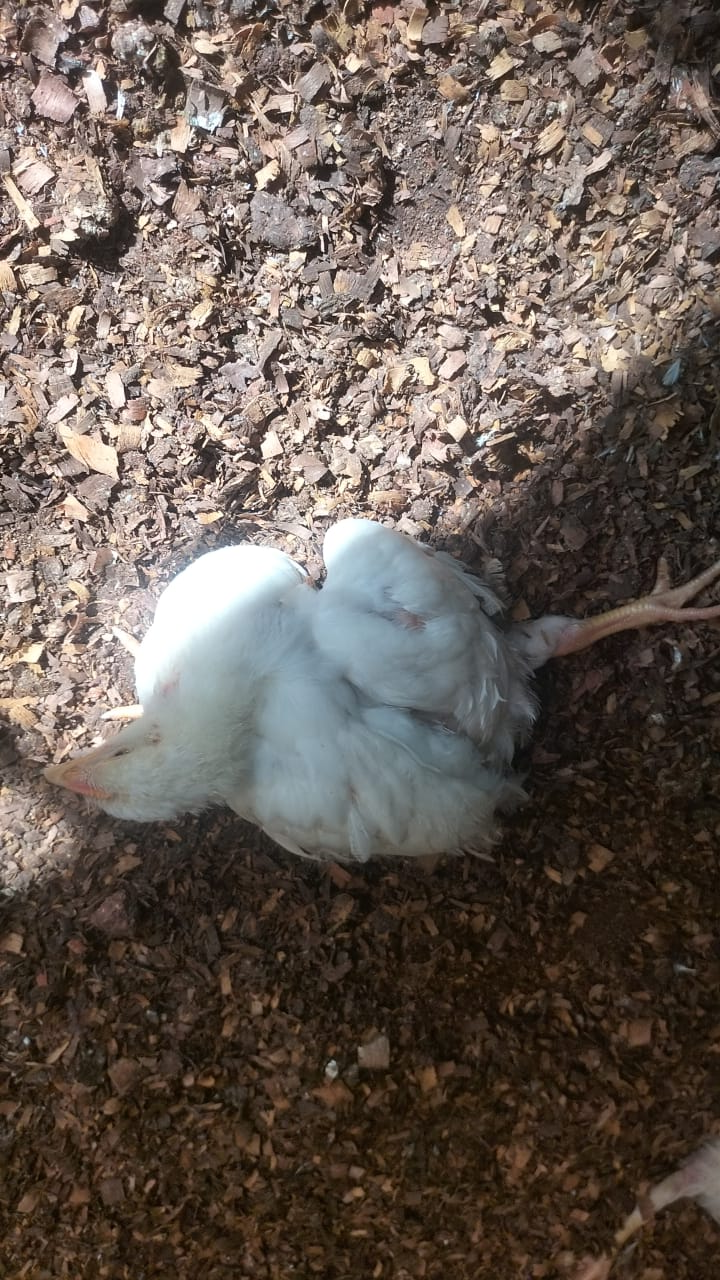Unhealthy: (37, 483, 690, 917)
